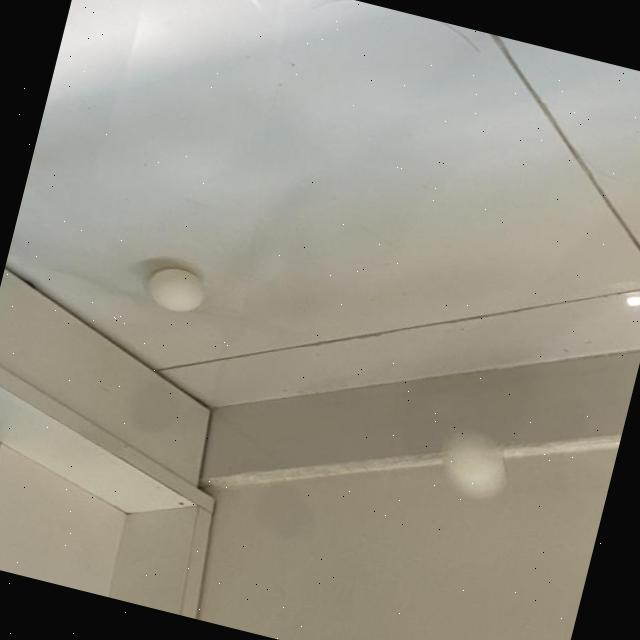ping-pong-ball: (434, 422, 514, 498), (144, 262, 210, 316)
